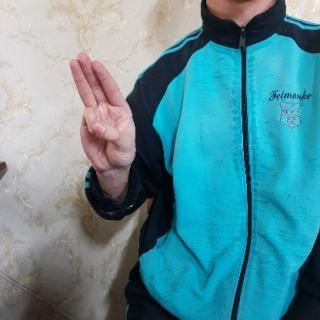THA: (64, 45, 145, 184)
